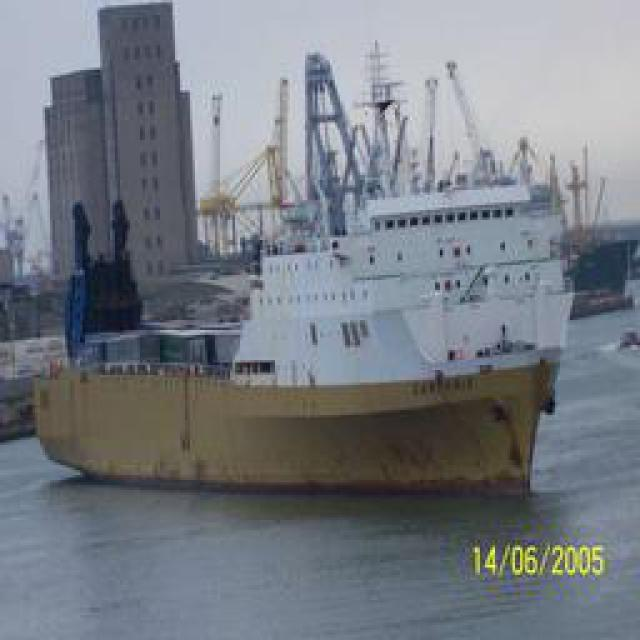Ship: (40, 28, 558, 496)
